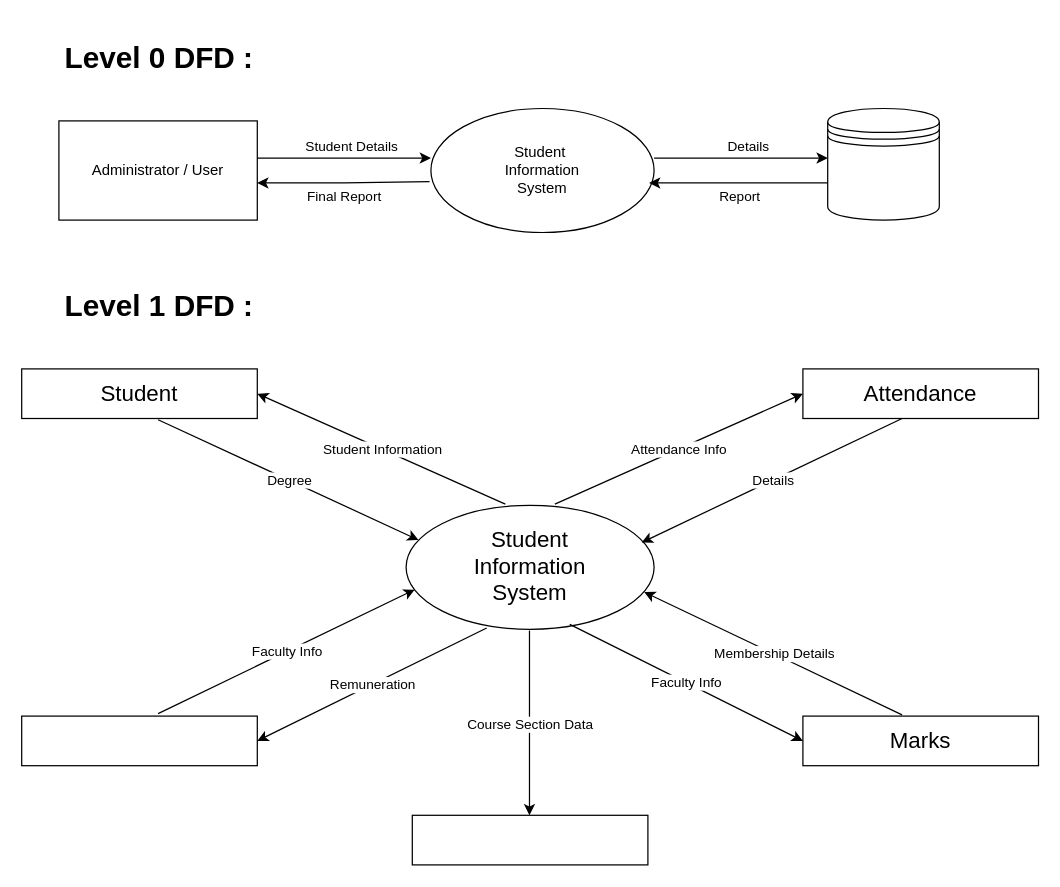
Some shapes in this 1060 by 887 pixel diagram are drawn without their labels. The shapes that lost their labels are listed below. From the top down, each one's centre as x and y in pixels, then its label:
At point (882, 163): "My SQL Database".
At point (138, 740): "Faculty".
At point (529, 839): "Administration".
